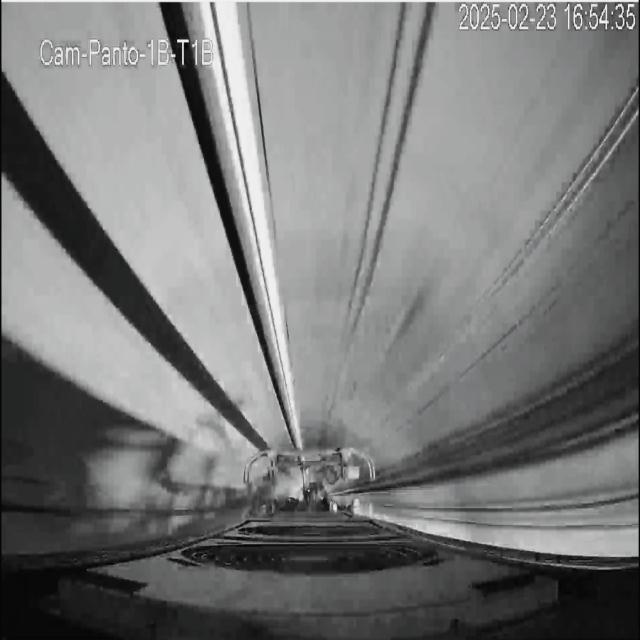Camera Stamp: (37, 31, 218, 69)
Date Stamp: (460, 3, 636, 33)
